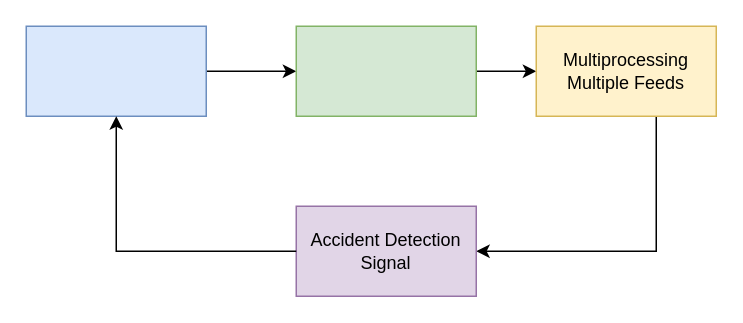
Image size: 743x323. Some labels were removed from this diagram. Each missing label, with the centre of its shape:
Main Program Loop: (x=115, y=70)
Multiprocessing Initialization: (x=385, y=70)
